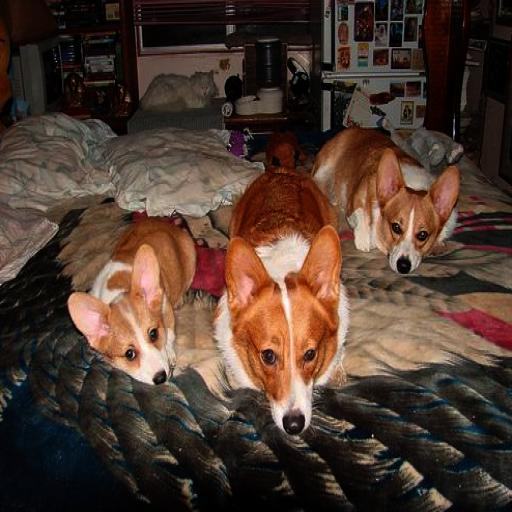dog_face: (232, 244, 353, 441), (67, 245, 166, 378), (373, 148, 463, 278)
